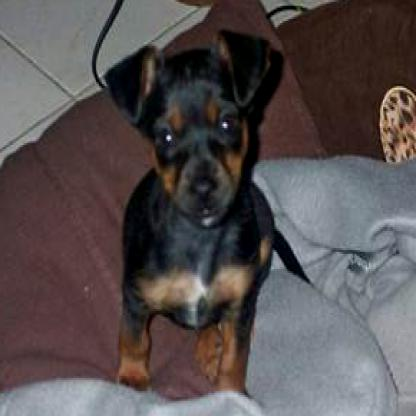dog: (105, 27, 275, 393)
